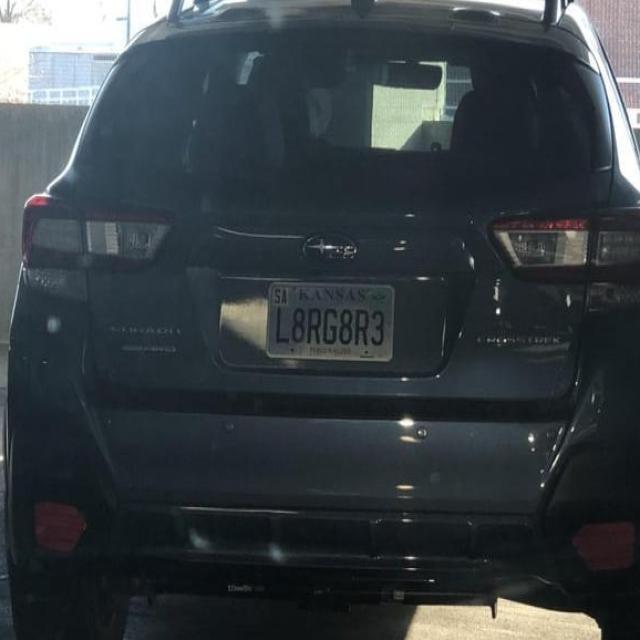license-plate: (219, 245, 468, 380)
